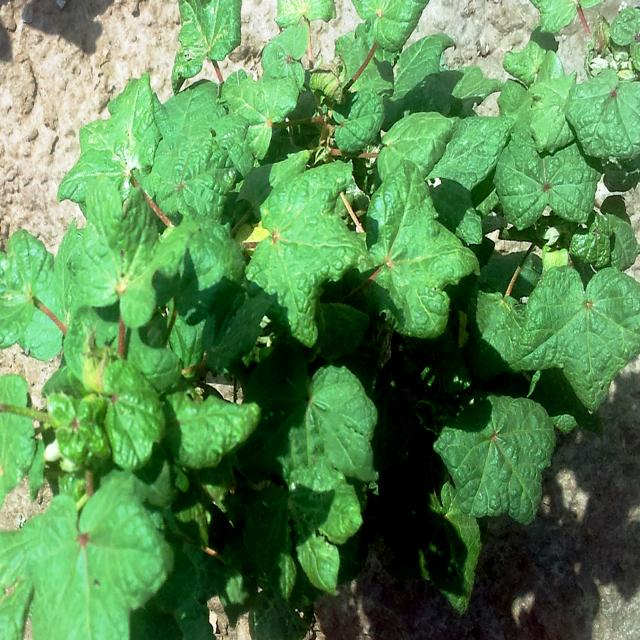Leaf Curl Virus: (0, 0, 640, 639), (4, 11, 632, 635)
